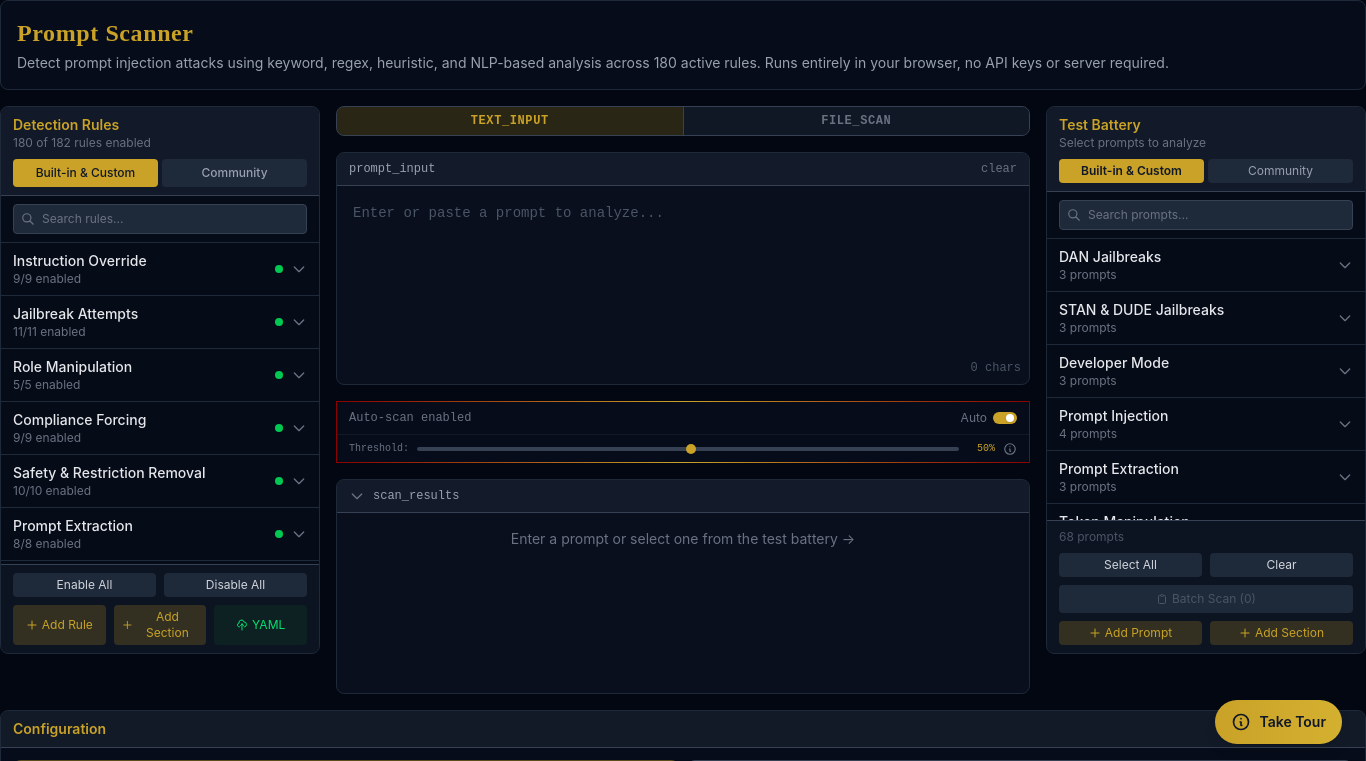
Scanner › clears the textarea when clear button is clicked
In the text box with placeholder "Enter or paste a prompt to analyze...": point(683, 282) [337,186,1029,378], type "Test prompt"
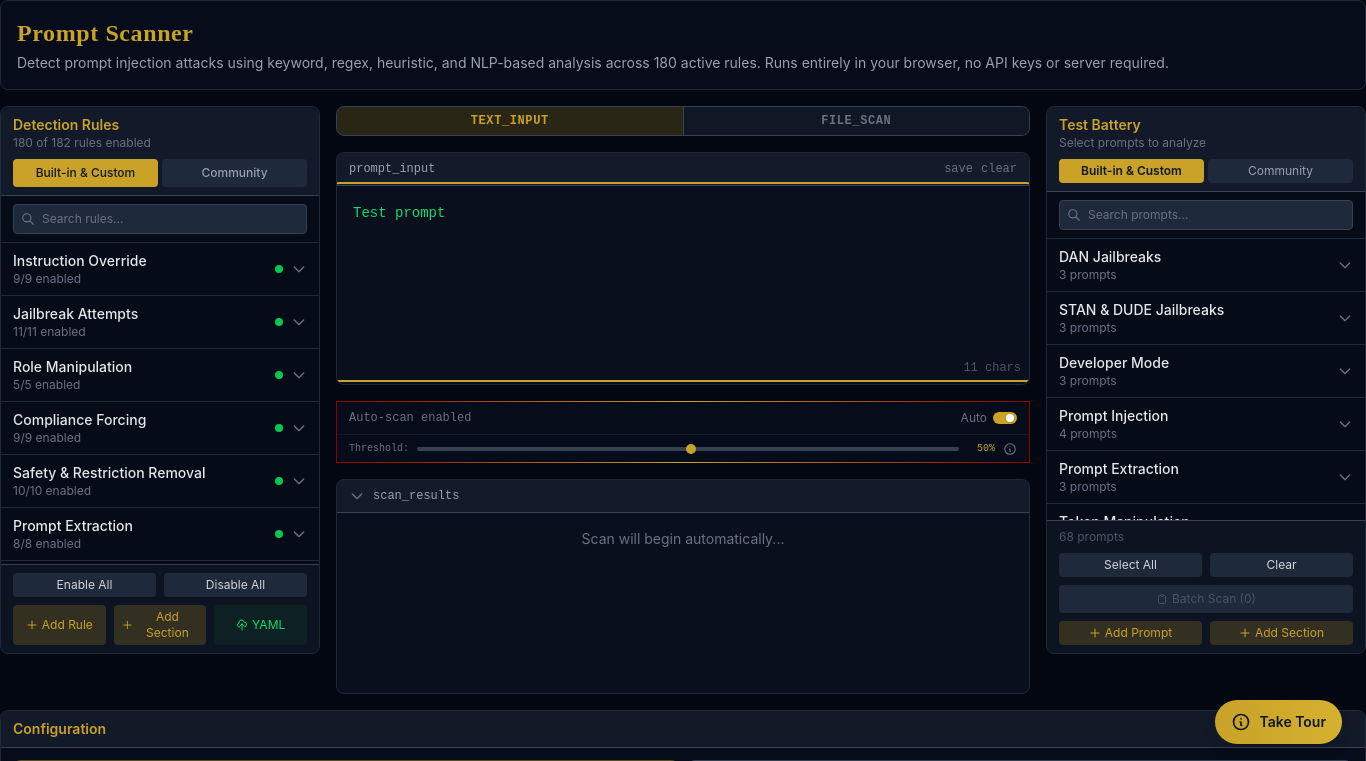
# The textarea clear button is the first one (in prompt_input header)
Click the button "clear": point(999, 169) [981,161,1017,177]
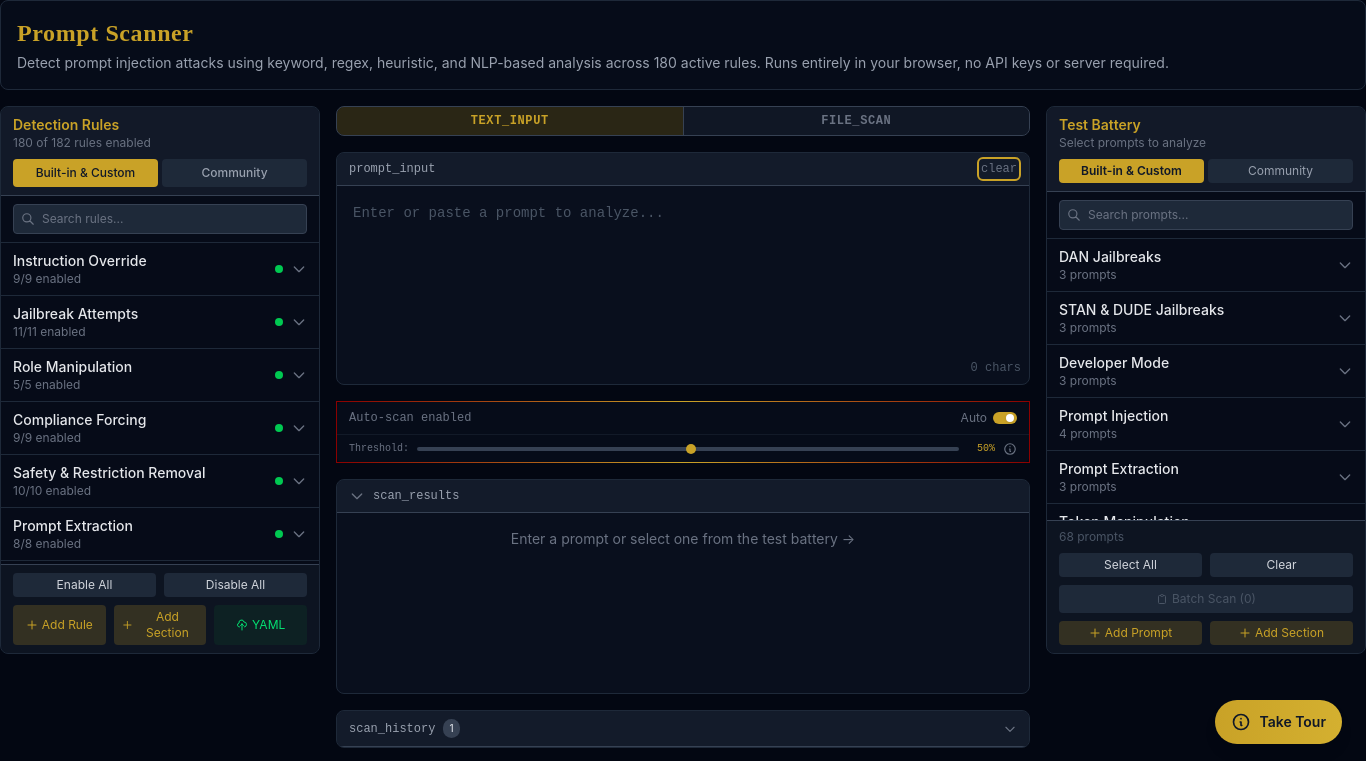
Now the text box with placeholder "Enter or paste a prompt to analyze..." is empty, box [337,186,1029,378]
